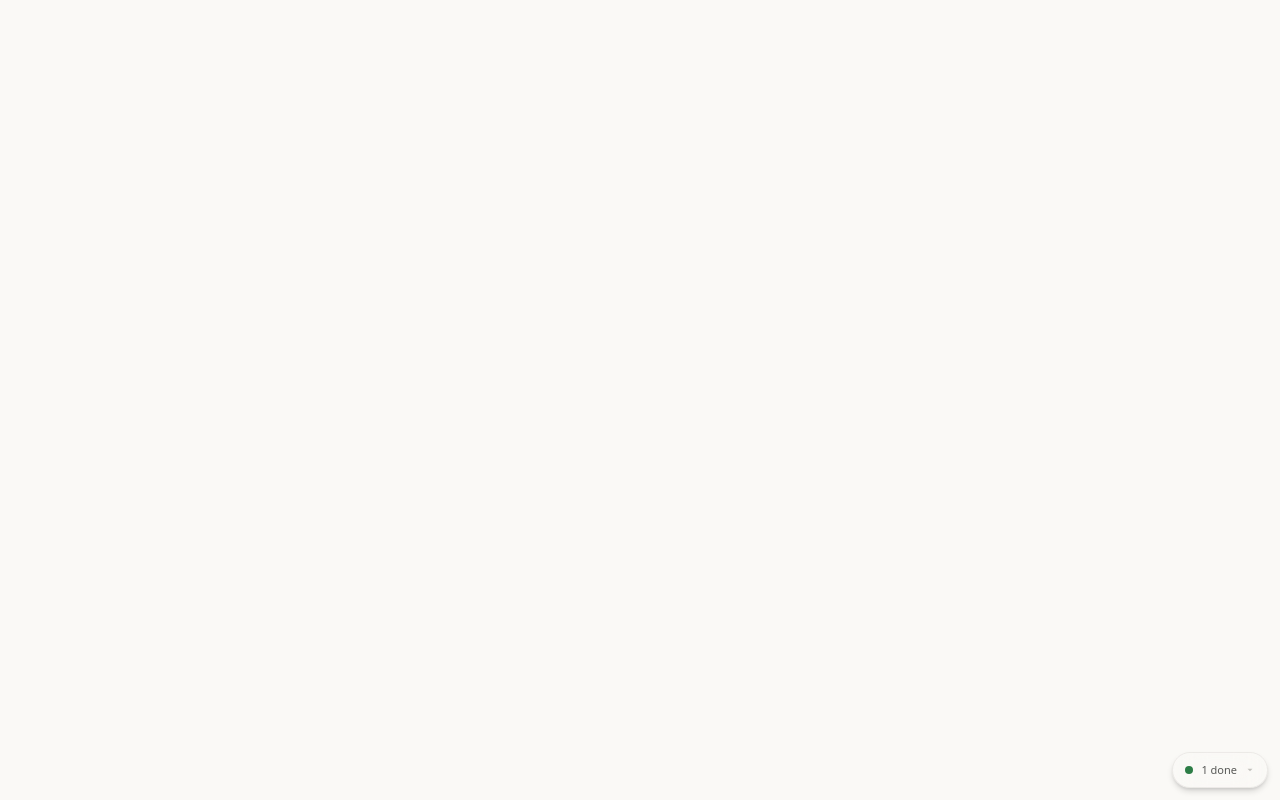
ActivityTray › shows agent details in expanded panel
Click the button with aria-label "activity".
click(1220, 770)  # box [1172,752,1268,788]
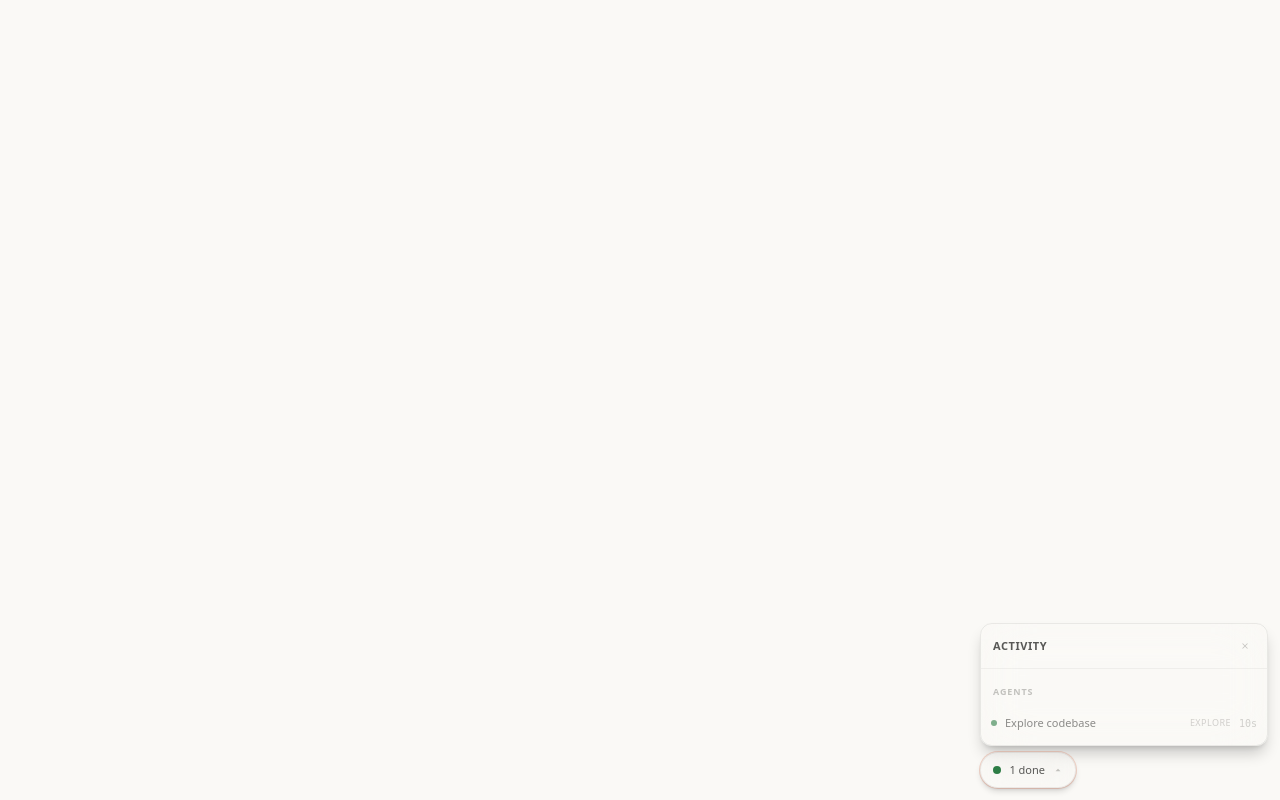
Check: the text "Explore codebase" is shown, box [1005,715,1096,730]
